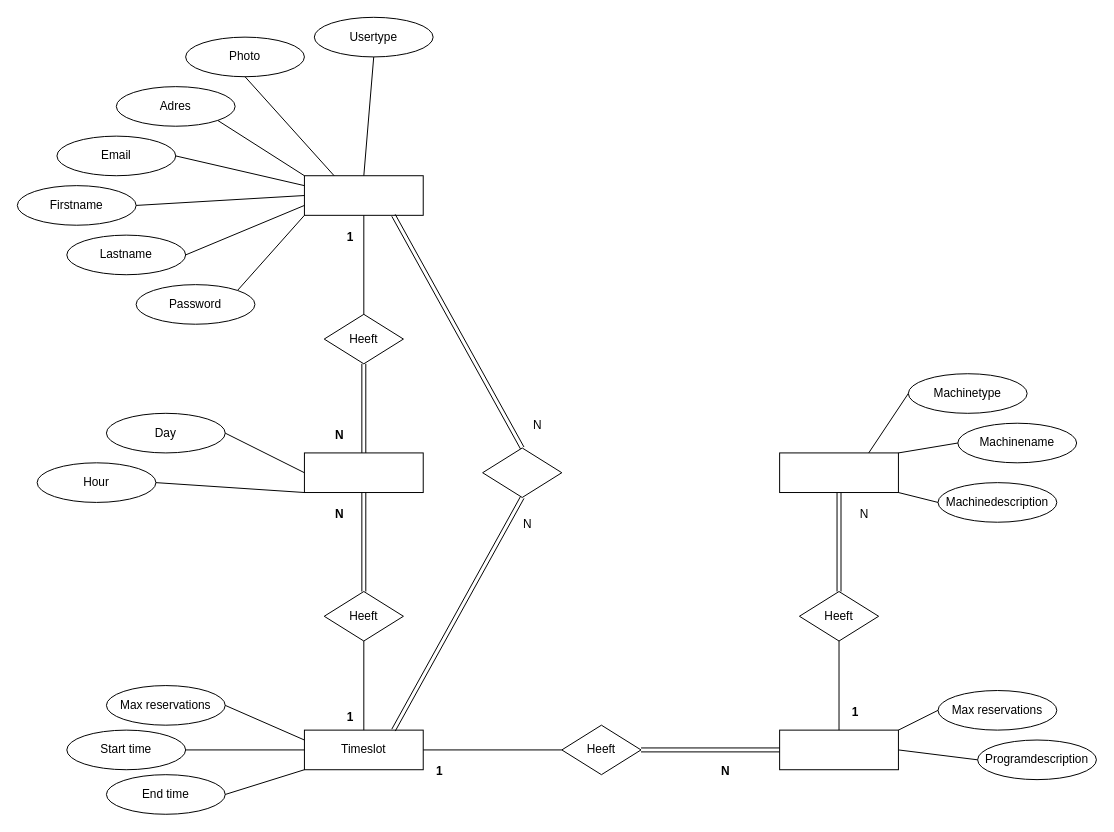
Some shapes in this 1114 by 832 pixel diagram are drawn without their labels. The shapes that lost their labels are listed below. From the top down, each one's box as (x1, y1, x2, y2) in pixels, then its label:
(303, 175, 423, 215): User
(303, 452, 423, 493): Reservation
(482, 447, 562, 497): Reserveerd
(779, 452, 898, 493): Machine
(779, 729, 898, 770): Program
